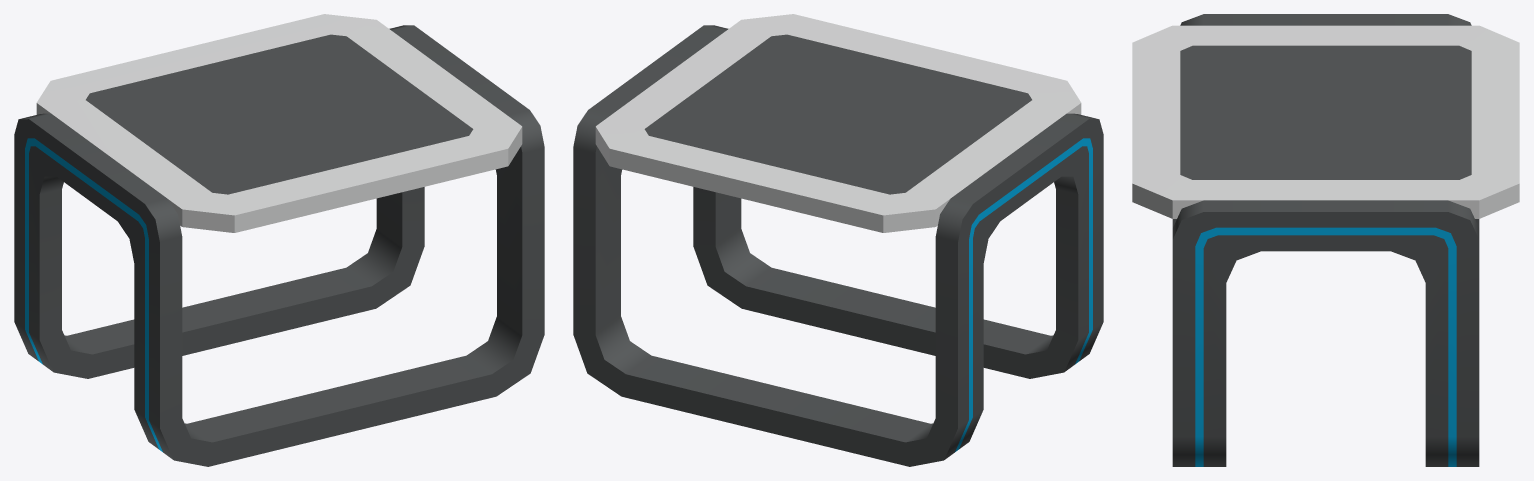
File: Chair_003.fbx
The picture shows the model from 3 angles, left to right: view 1: azimuth 30°, elevation 25°; view 2: azimuth 150°, elevation 25°; view 3: azimuth 270°, elevation 25°; orthographic projection. The views are drawn at different scales.
Visible parts, largest first — view 1: Chair_003; view 2: Chair_003; view 3: Chair_003.
Boxes of the visible parts, left/top/right/bottom form: Chair_003: left=14, top=14, right=544, bottom=466; Chair_003: left=573, top=14, right=1103, bottom=466; Chair_003: left=1132, top=14, right=1519, bottom=466.
Size of the model in its own units: 63.54 by 52.6 by 41.63.
